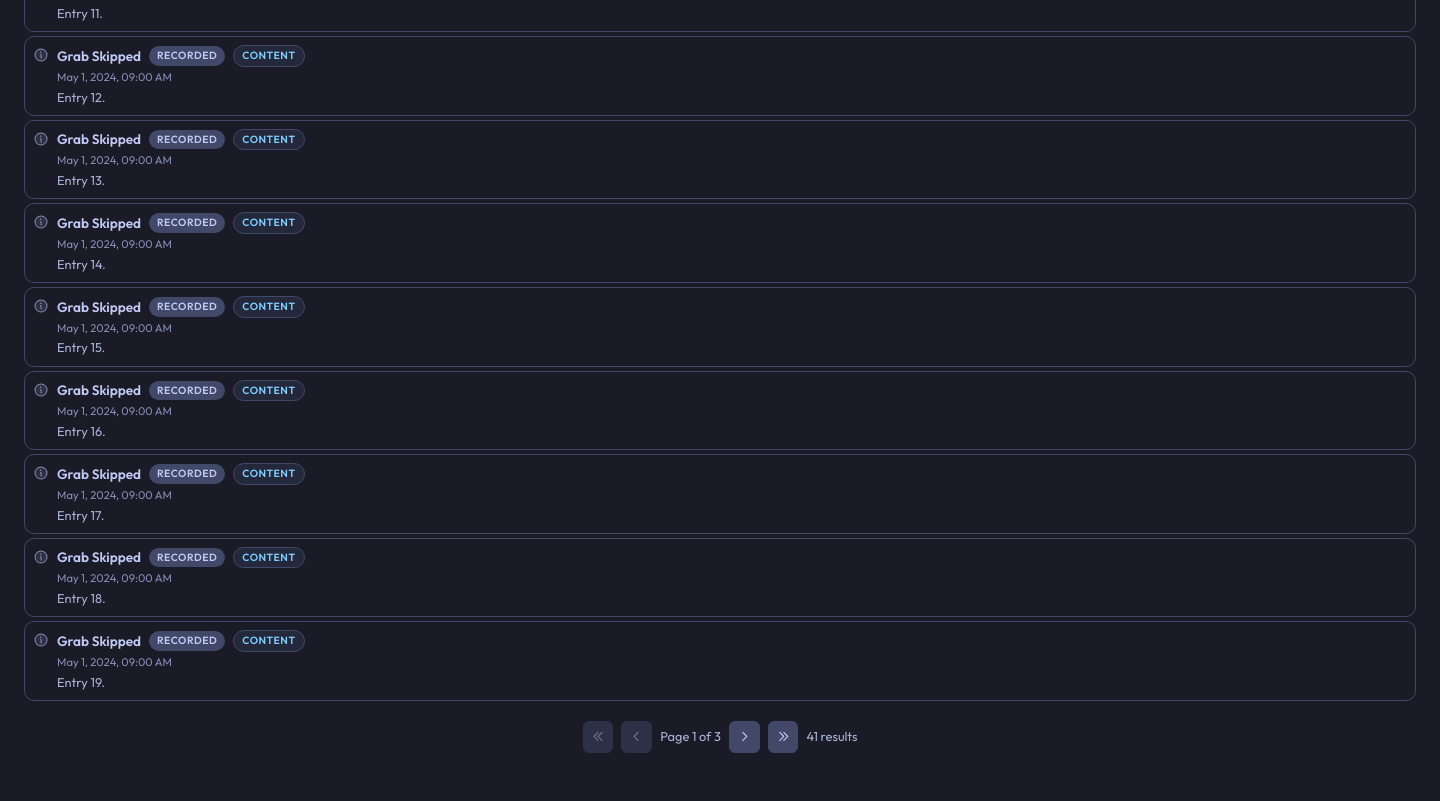
Test: RelatedEventsChain › Pagination_MovesToPreviousPage_WhenActivityShrinksBelowTheCurrentPage
This screenshot has width=1440, height=801.
(page scrolled)
Click the button named "Go to next page".
click(744, 737)  # box [729,721,760,753]
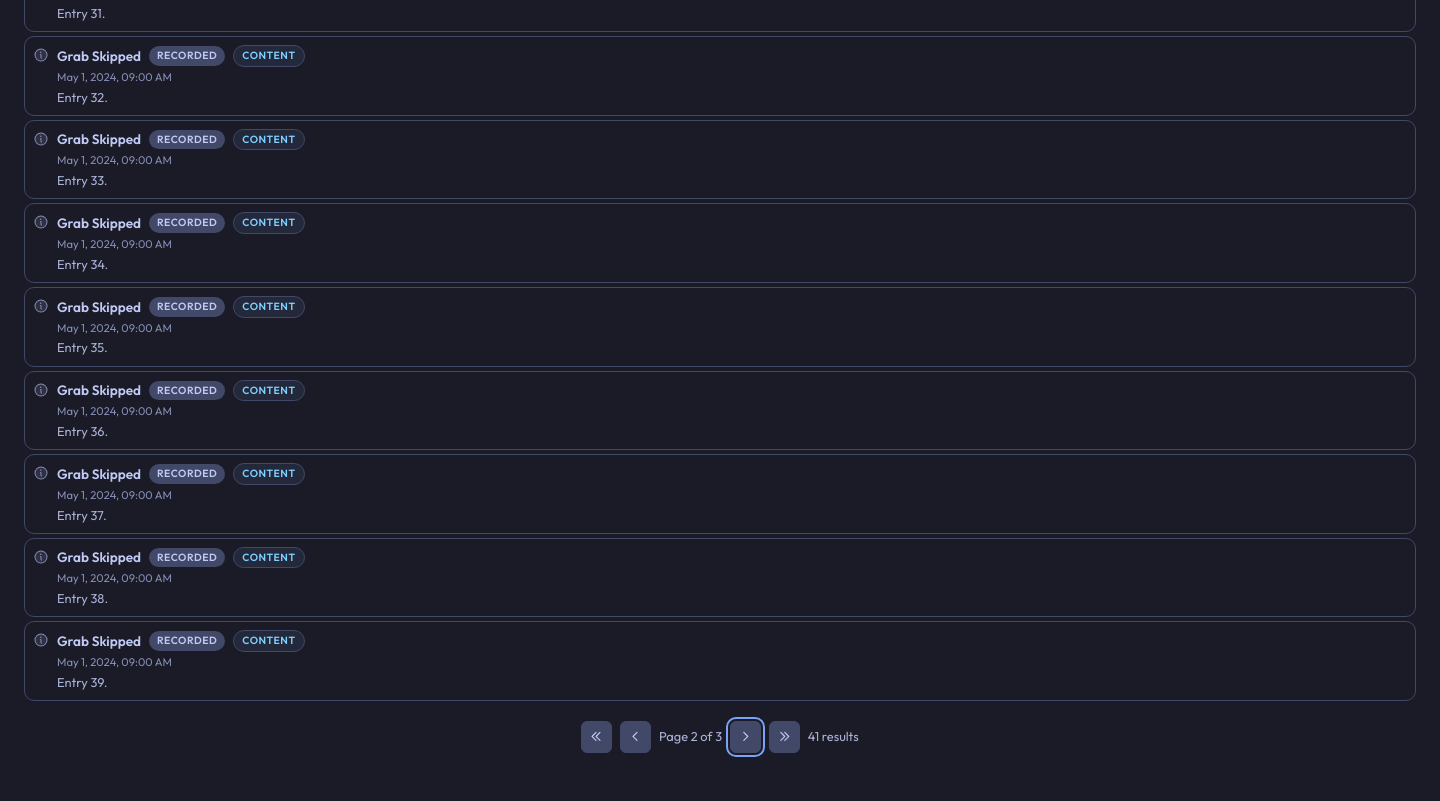
Click the button named "Go to next page".
click(745, 737)  # box [730,721,761,753]
(page scrolled)
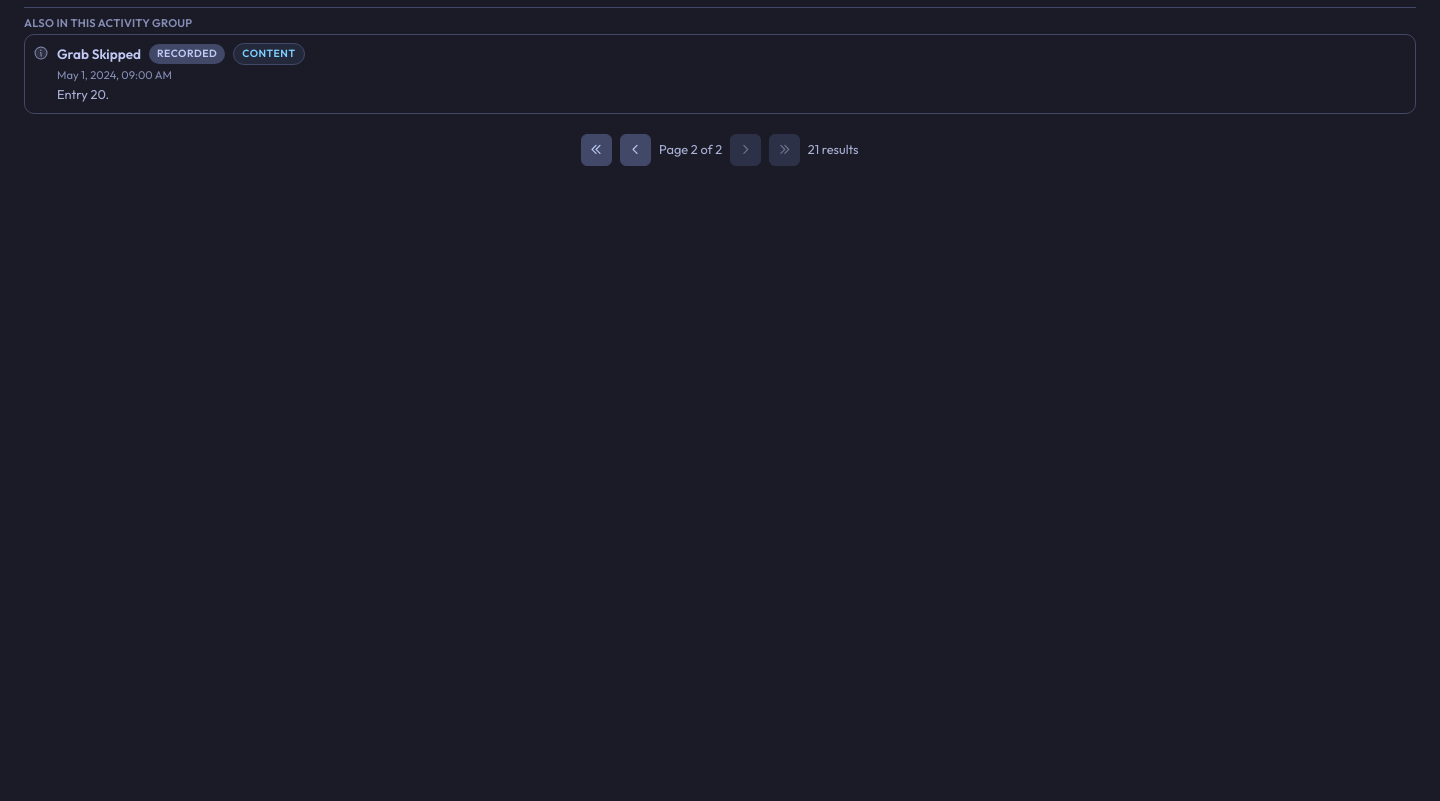
Expected: the text "Page 2 of 2" is shown, [659,140,722,159]
Click the button named "Go to previous page".
click(636, 150)  # box [620,134,651,166]
(page scrolled)
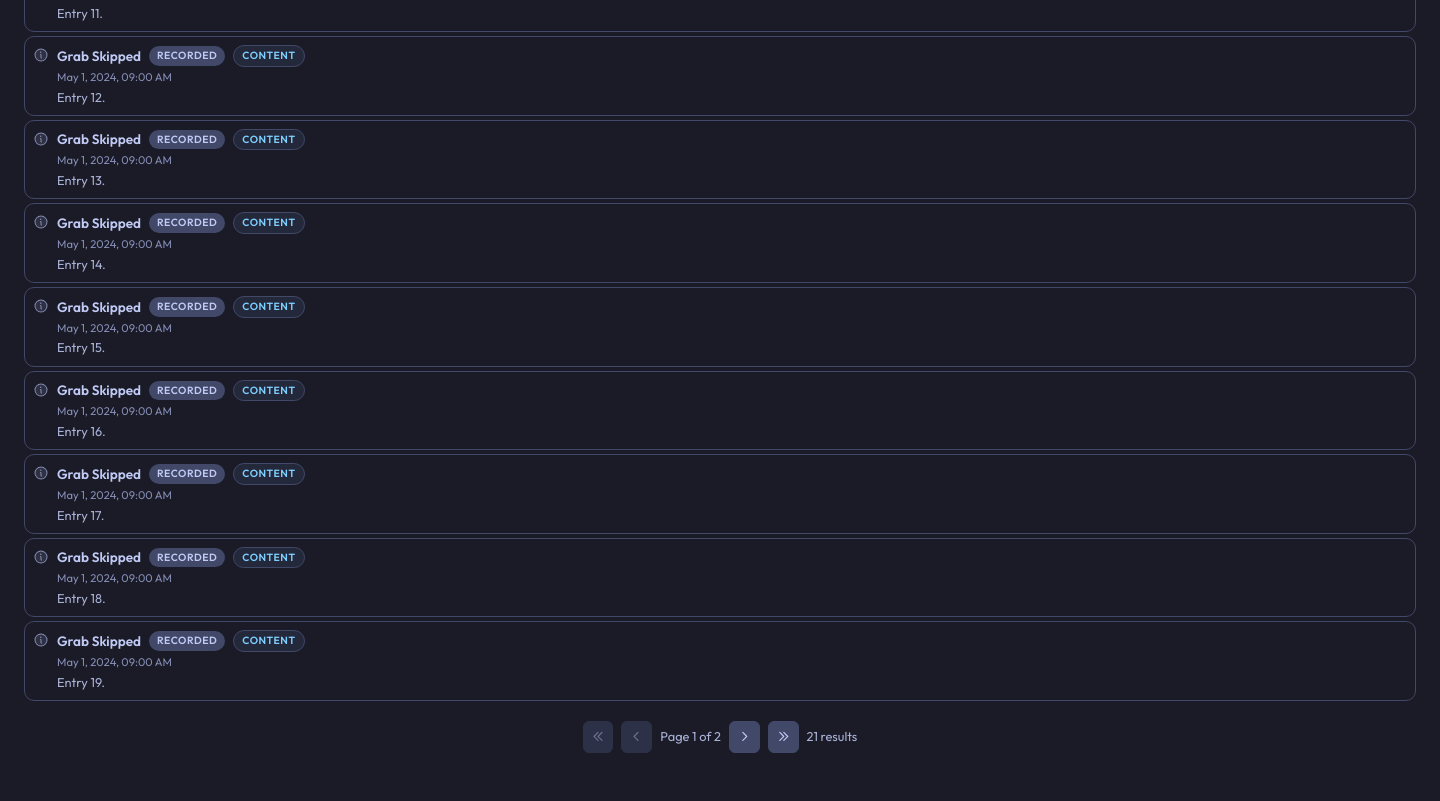
Expected: the text "Page 1 of 2" is shown, [660,727,721,746]
